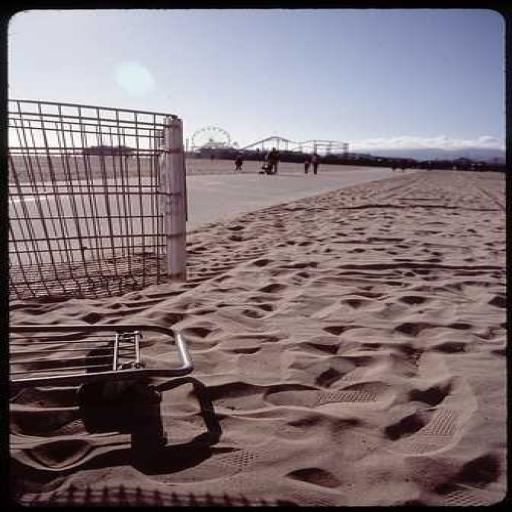shopping_cart: (2, 83, 198, 406)
